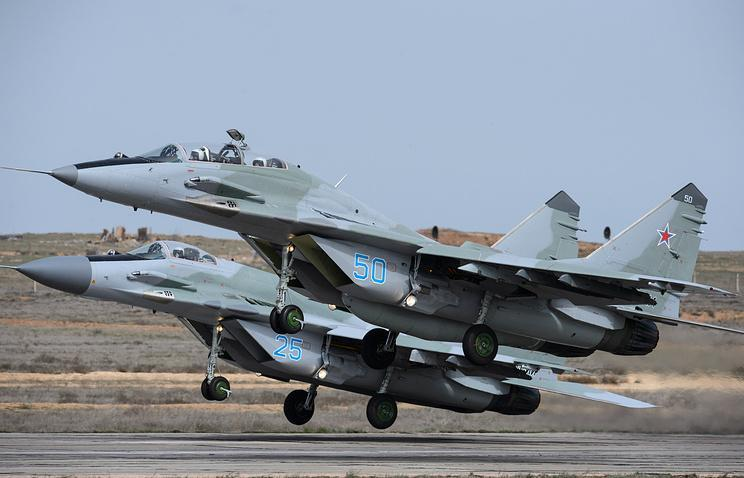Mig-29: (29, 102, 709, 361), (16, 229, 585, 439)
